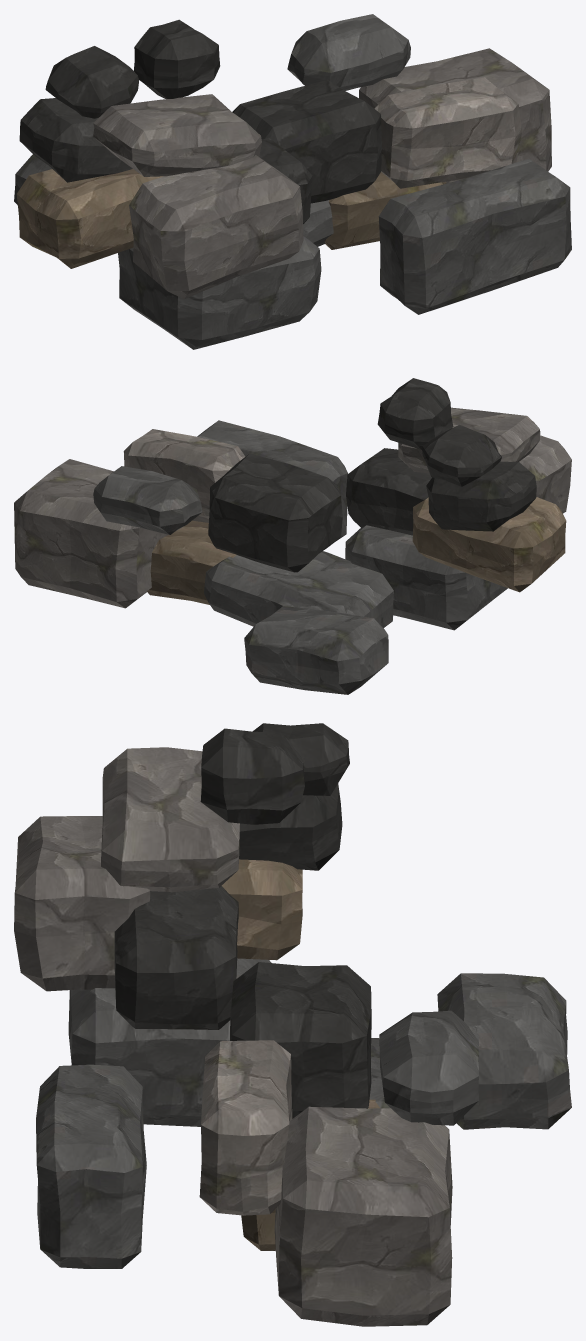
The model's file is ruin_rubble__cut_stone.glb.
3 views of the same model, one above another, from view 1: azimuth 30°, elevation 25°; view 2: azimuth 150°, elevation 25°; view 3: azimuth 270°, elevation 25° (orthographic). The views are drawn at different scales.
Parts seen in each view (by area): view 1: model; view 2: model; view 3: model.
Part boxes in pixels (x1=…): model: x1=14, y1=14, x2=571, y2=349; model: x1=14, y1=378, x2=571, y2=694; model: x1=14, y1=723, x2=571, y2=1326.
Size of the model in its own units: 1.17 by 0.5773 by 0.807.
6 materials, 6 textured.
